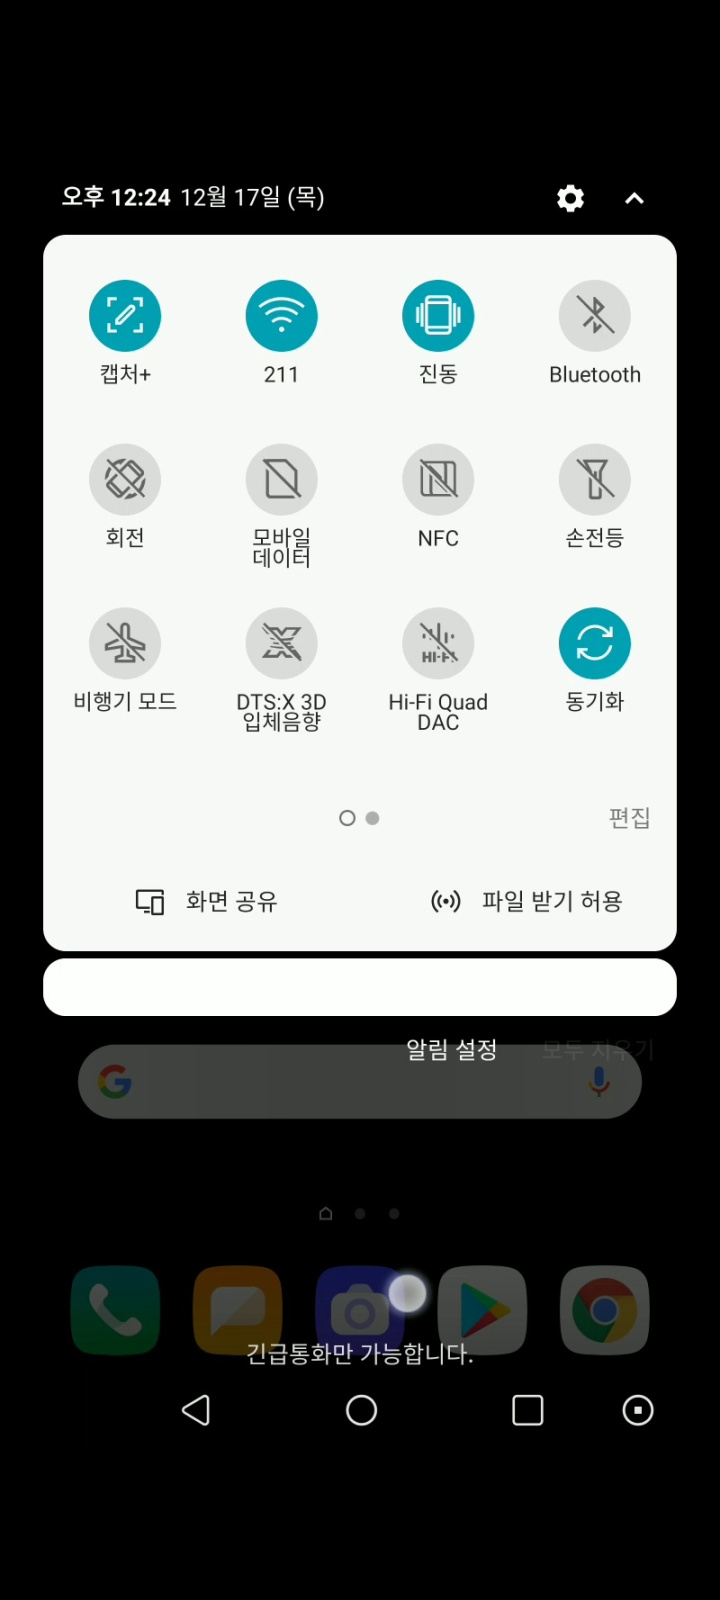Cursor: (387, 1272, 432, 1317)
